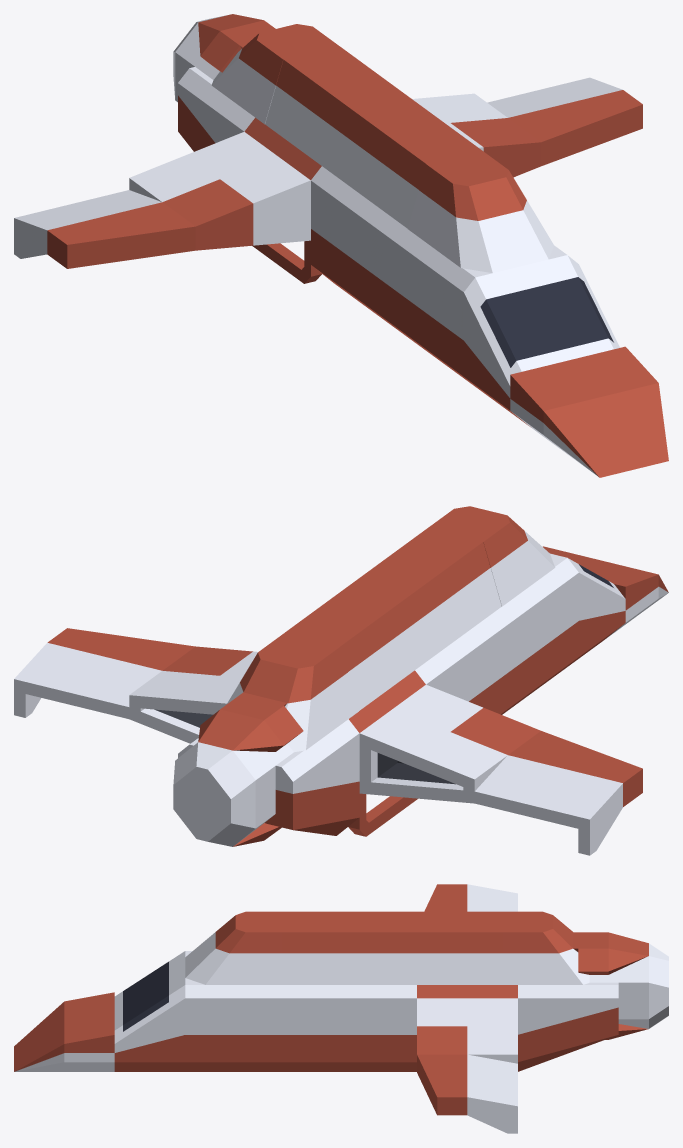
File: base_ship.dae
3 views of the same model, one above another, from view 1: azimuth 30°, elevation 25°; view 2: azimuth 150°, elevation 25°; view 3: azimuth 270°, elevation 25° (orthographic). The views are drawn at different scales.
Visible parts, largest first — view 1: mergedBlocks; view 2: mergedBlocks; view 3: mergedBlocks.
Boxes of the visible parts, x1=… form: mergedBlocks: x1=14, y1=14, x2=668, y2=477; mergedBlocks: x1=14, y1=506, x2=668, y2=855; mergedBlocks: x1=14, y1=884, x2=668, y2=1133.
Bounding box in the file's own units: 5 × 1.5 × 6.5.
Materials: 1 (1 with a texture image).
